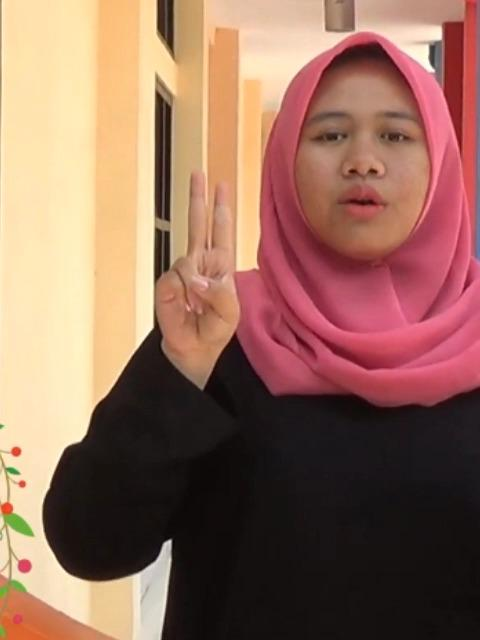U: (152, 163, 244, 354)
